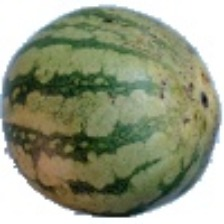watermelon: (46, 6, 181, 190)
